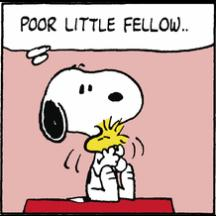snoopy: (38, 61, 146, 204)
